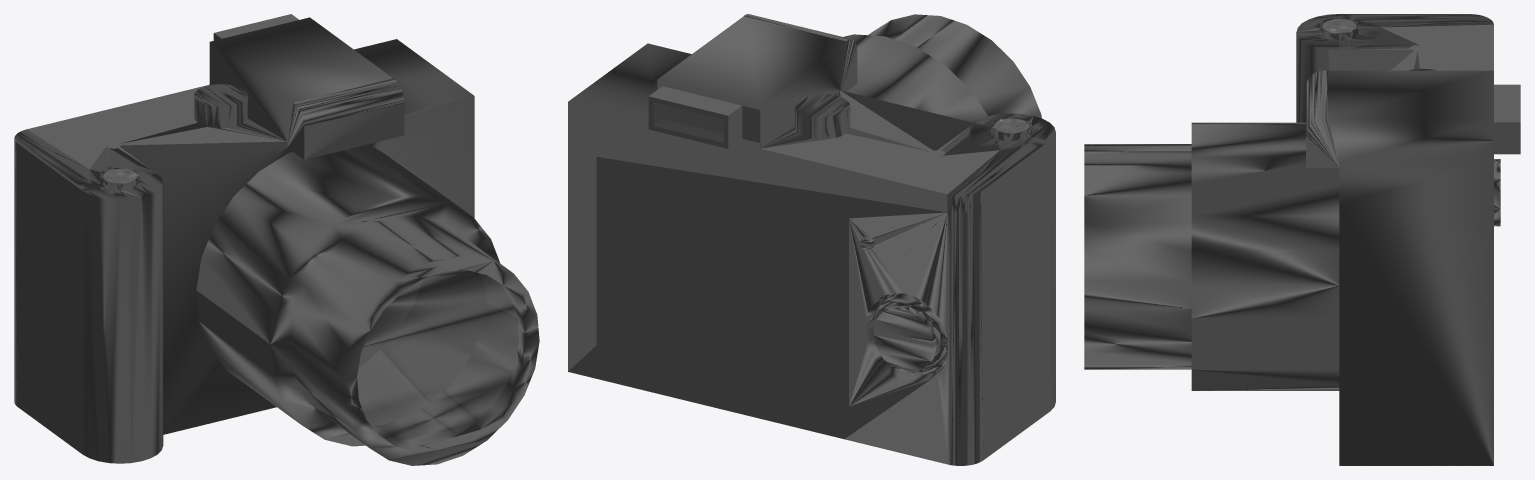
File: model_align.obj
3 views of the same model, side by side, from view 1: azimuth 30°, elevation 25°; view 2: azimuth 150°, elevation 25°; view 3: azimuth 270°, elevation 25° (orthographic). The views are drawn at different scales.
Bounding box in the file's own units: 0.1758 × 0.1313 × 0.1706.
